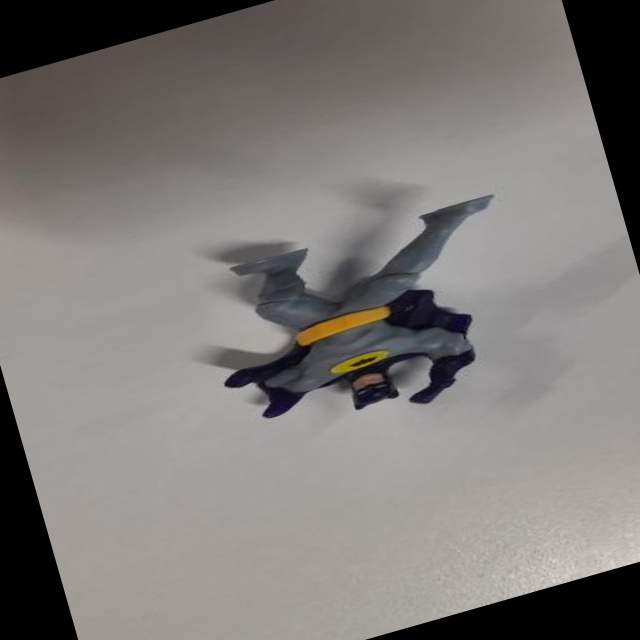Batman: (171, 169, 555, 467)
